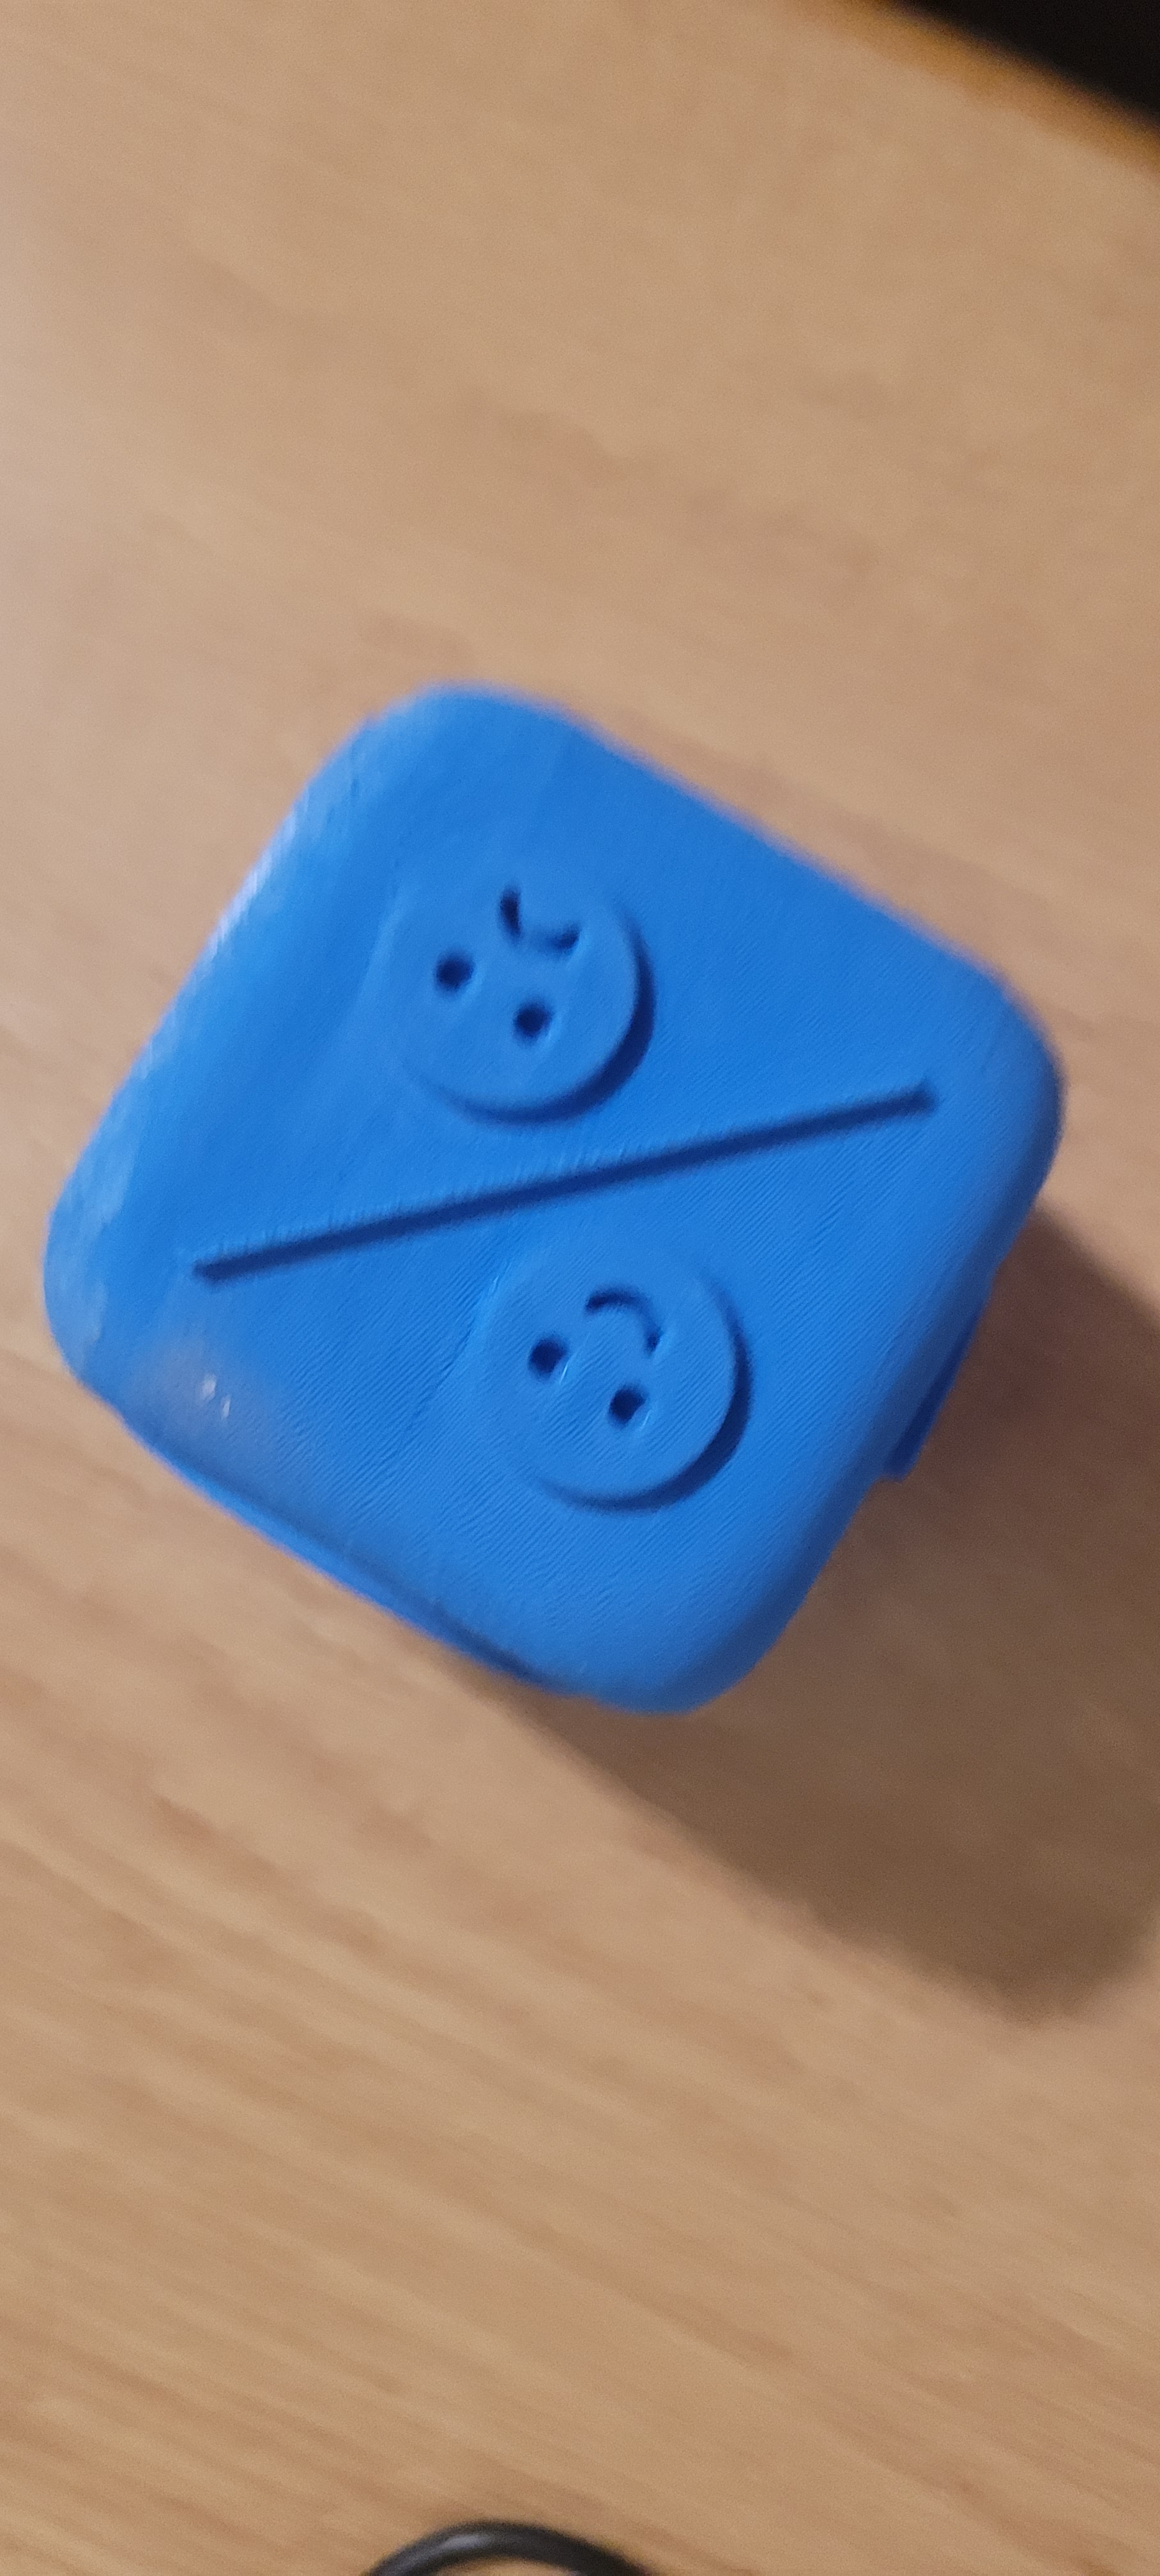Like/Dislike: (380, 623, 874, 1718)
